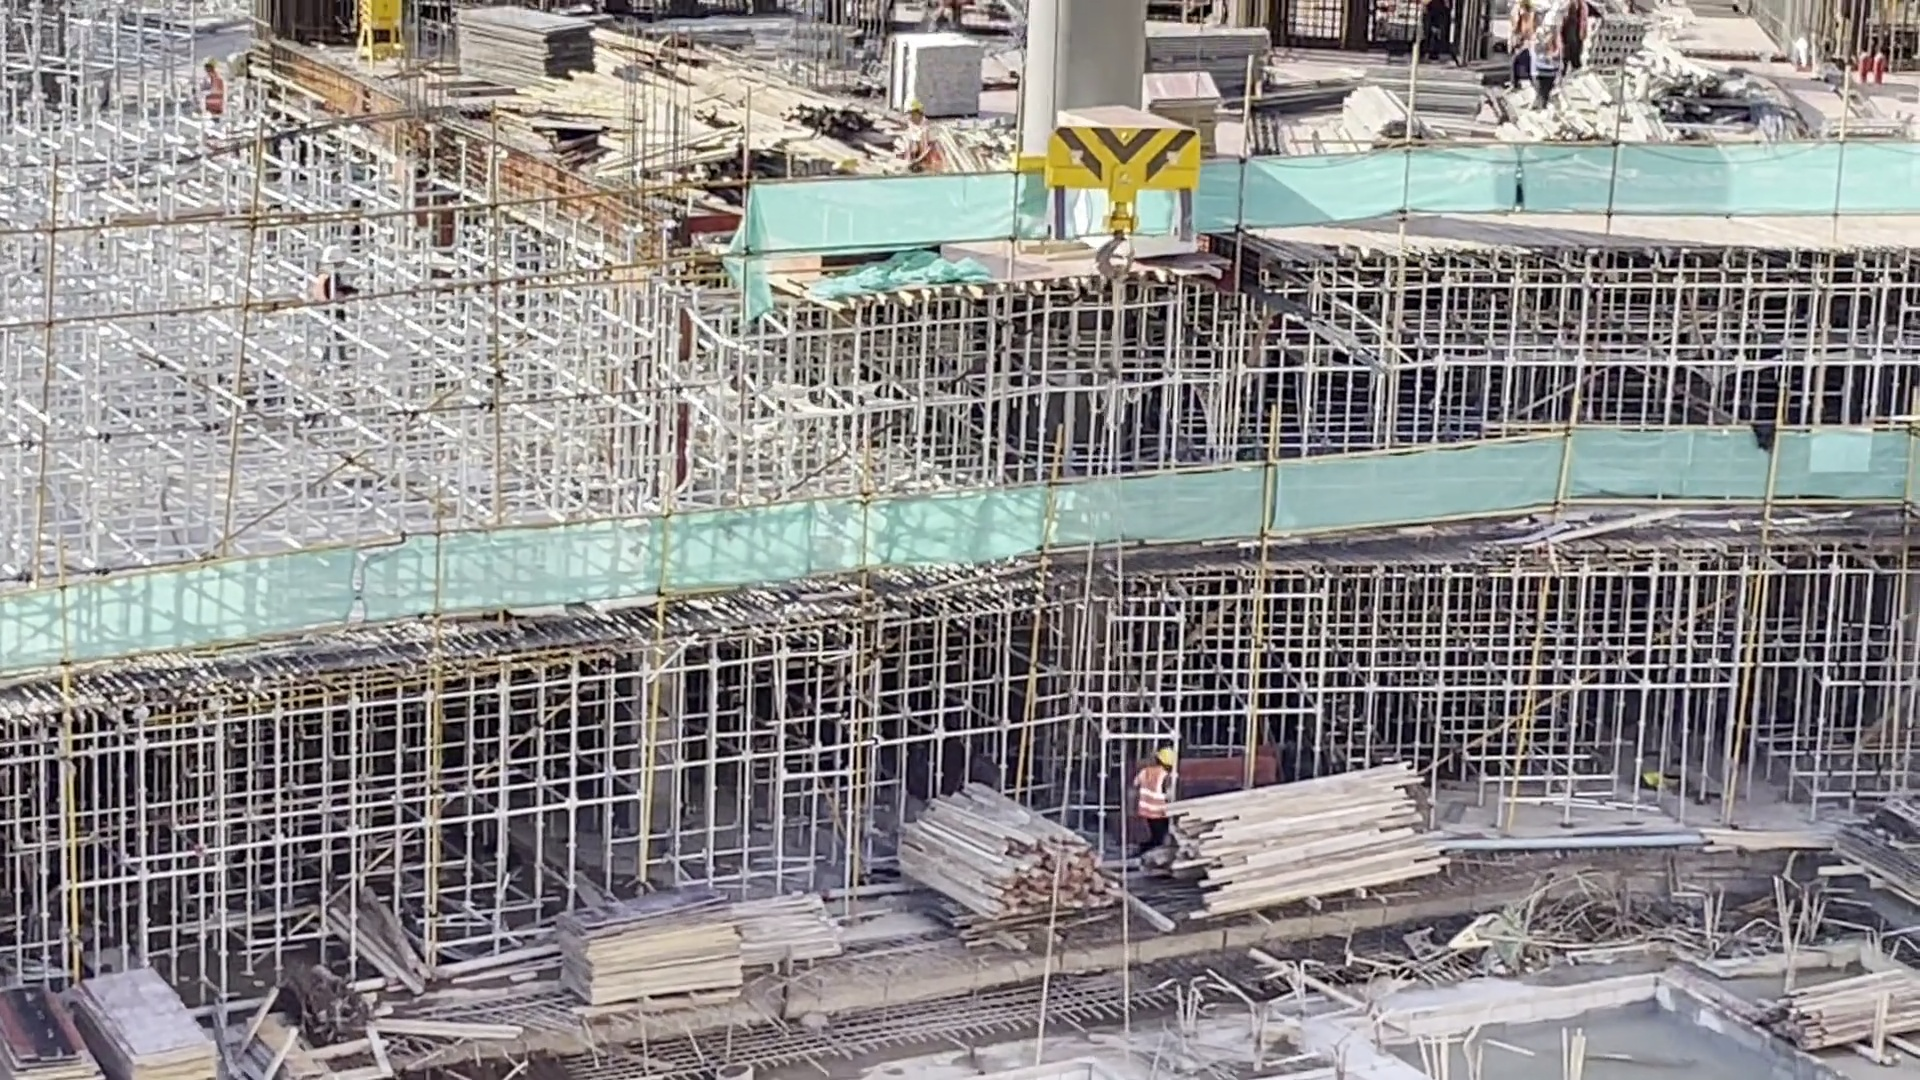board: (543, 883, 755, 1016), (84, 964, 216, 1080), (449, 5, 603, 90), (4, 982, 102, 1080), (1144, 69, 1222, 126)
ebox: (351, 1, 408, 63)
helmet: (312, 245, 349, 267), (1157, 747, 1174, 770), (1544, 9, 1564, 28)
hook: (1045, 116, 1200, 278)
person: (1132, 747, 1175, 856), (1530, 8, 1563, 111), (1507, 1, 1530, 99), (194, 52, 227, 113), (1566, 1, 1587, 72)
vest: (1137, 766, 1171, 819), (1535, 27, 1563, 80), (205, 75, 223, 113)
wood: (888, 774, 1129, 945), (1193, 765, 1449, 922), (1767, 965, 1913, 1054)
